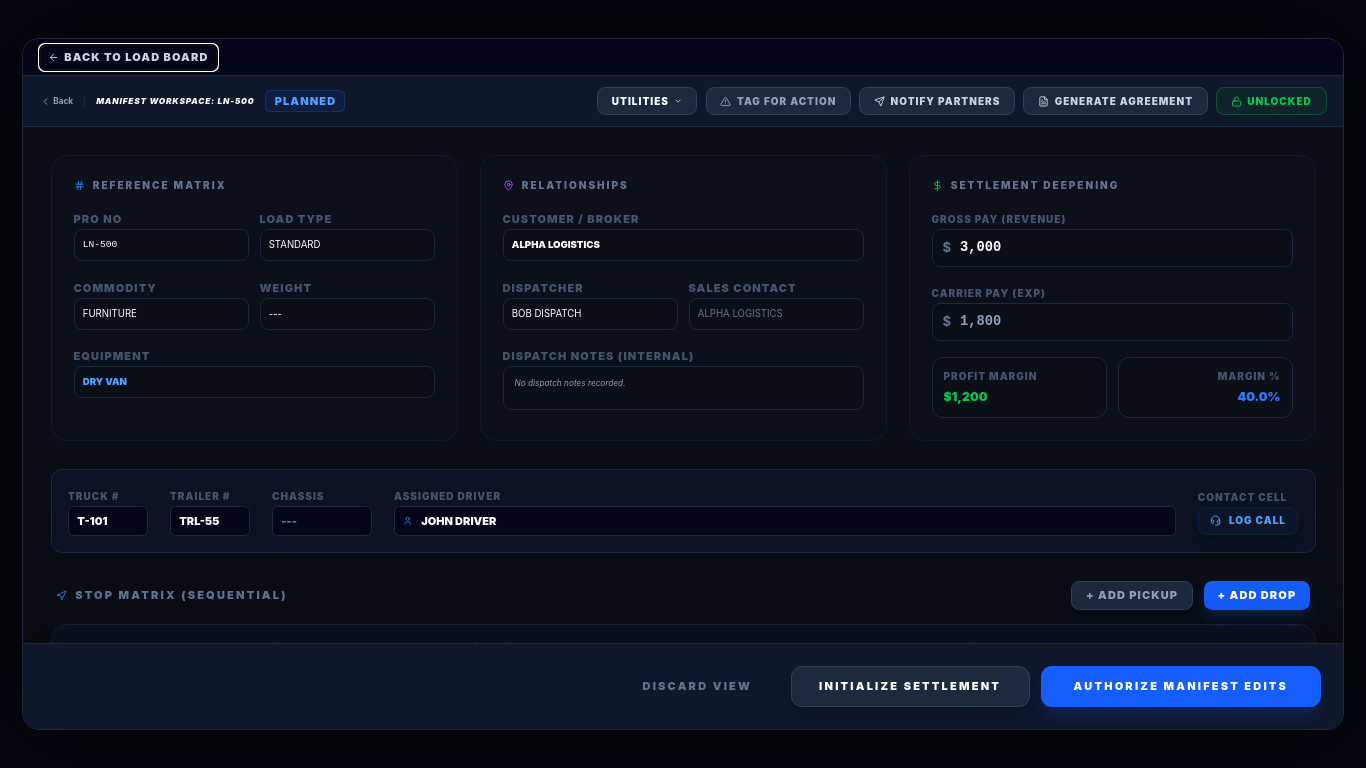
Scenario: LoadDetailView component › interactive elements › renders Utilities dropdown
What coordinates should you click on to do the following:
click the button "Utilities"
I would click on:
 (647, 101)
Its box is [597,87,698,115].
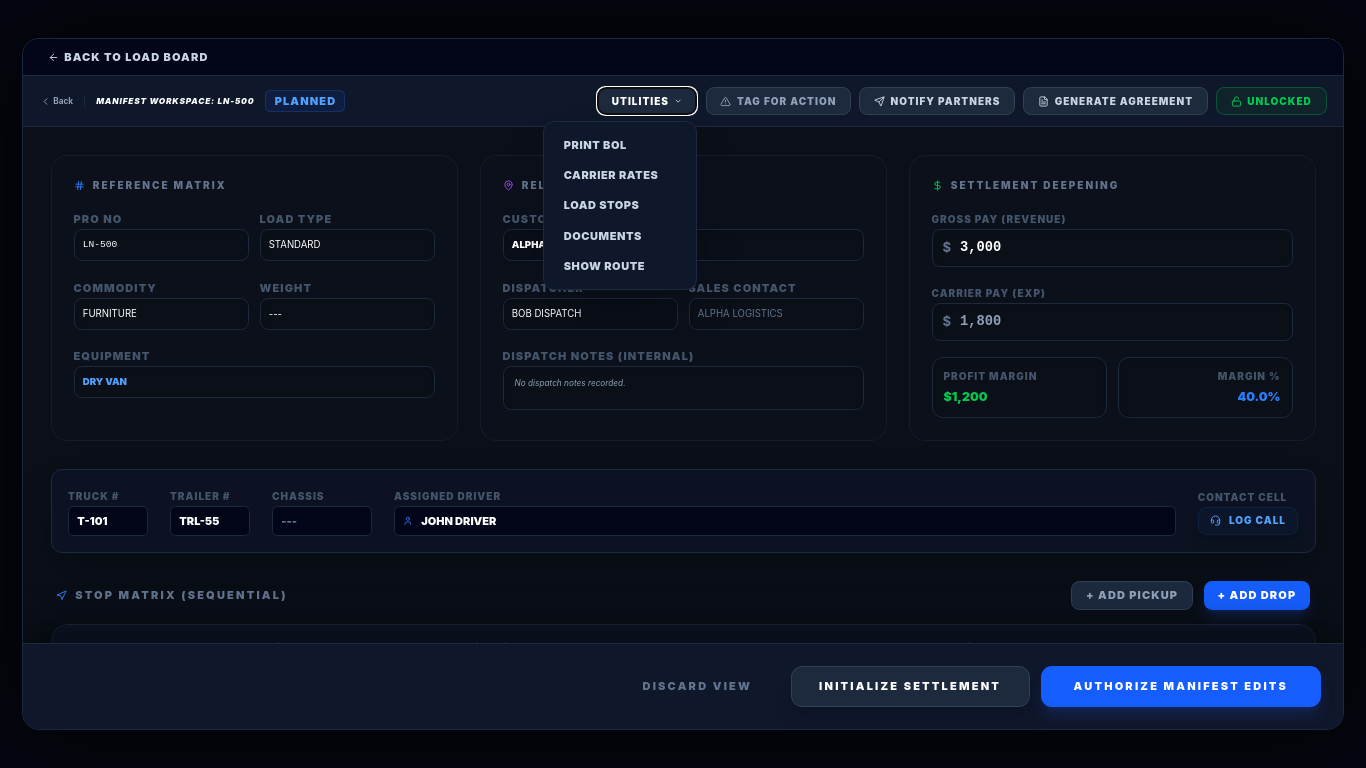
Result: the button "Print BOL" is shown at [553,130,688,160]
Result: the button "Documents" is shown at [553,221,688,251]
